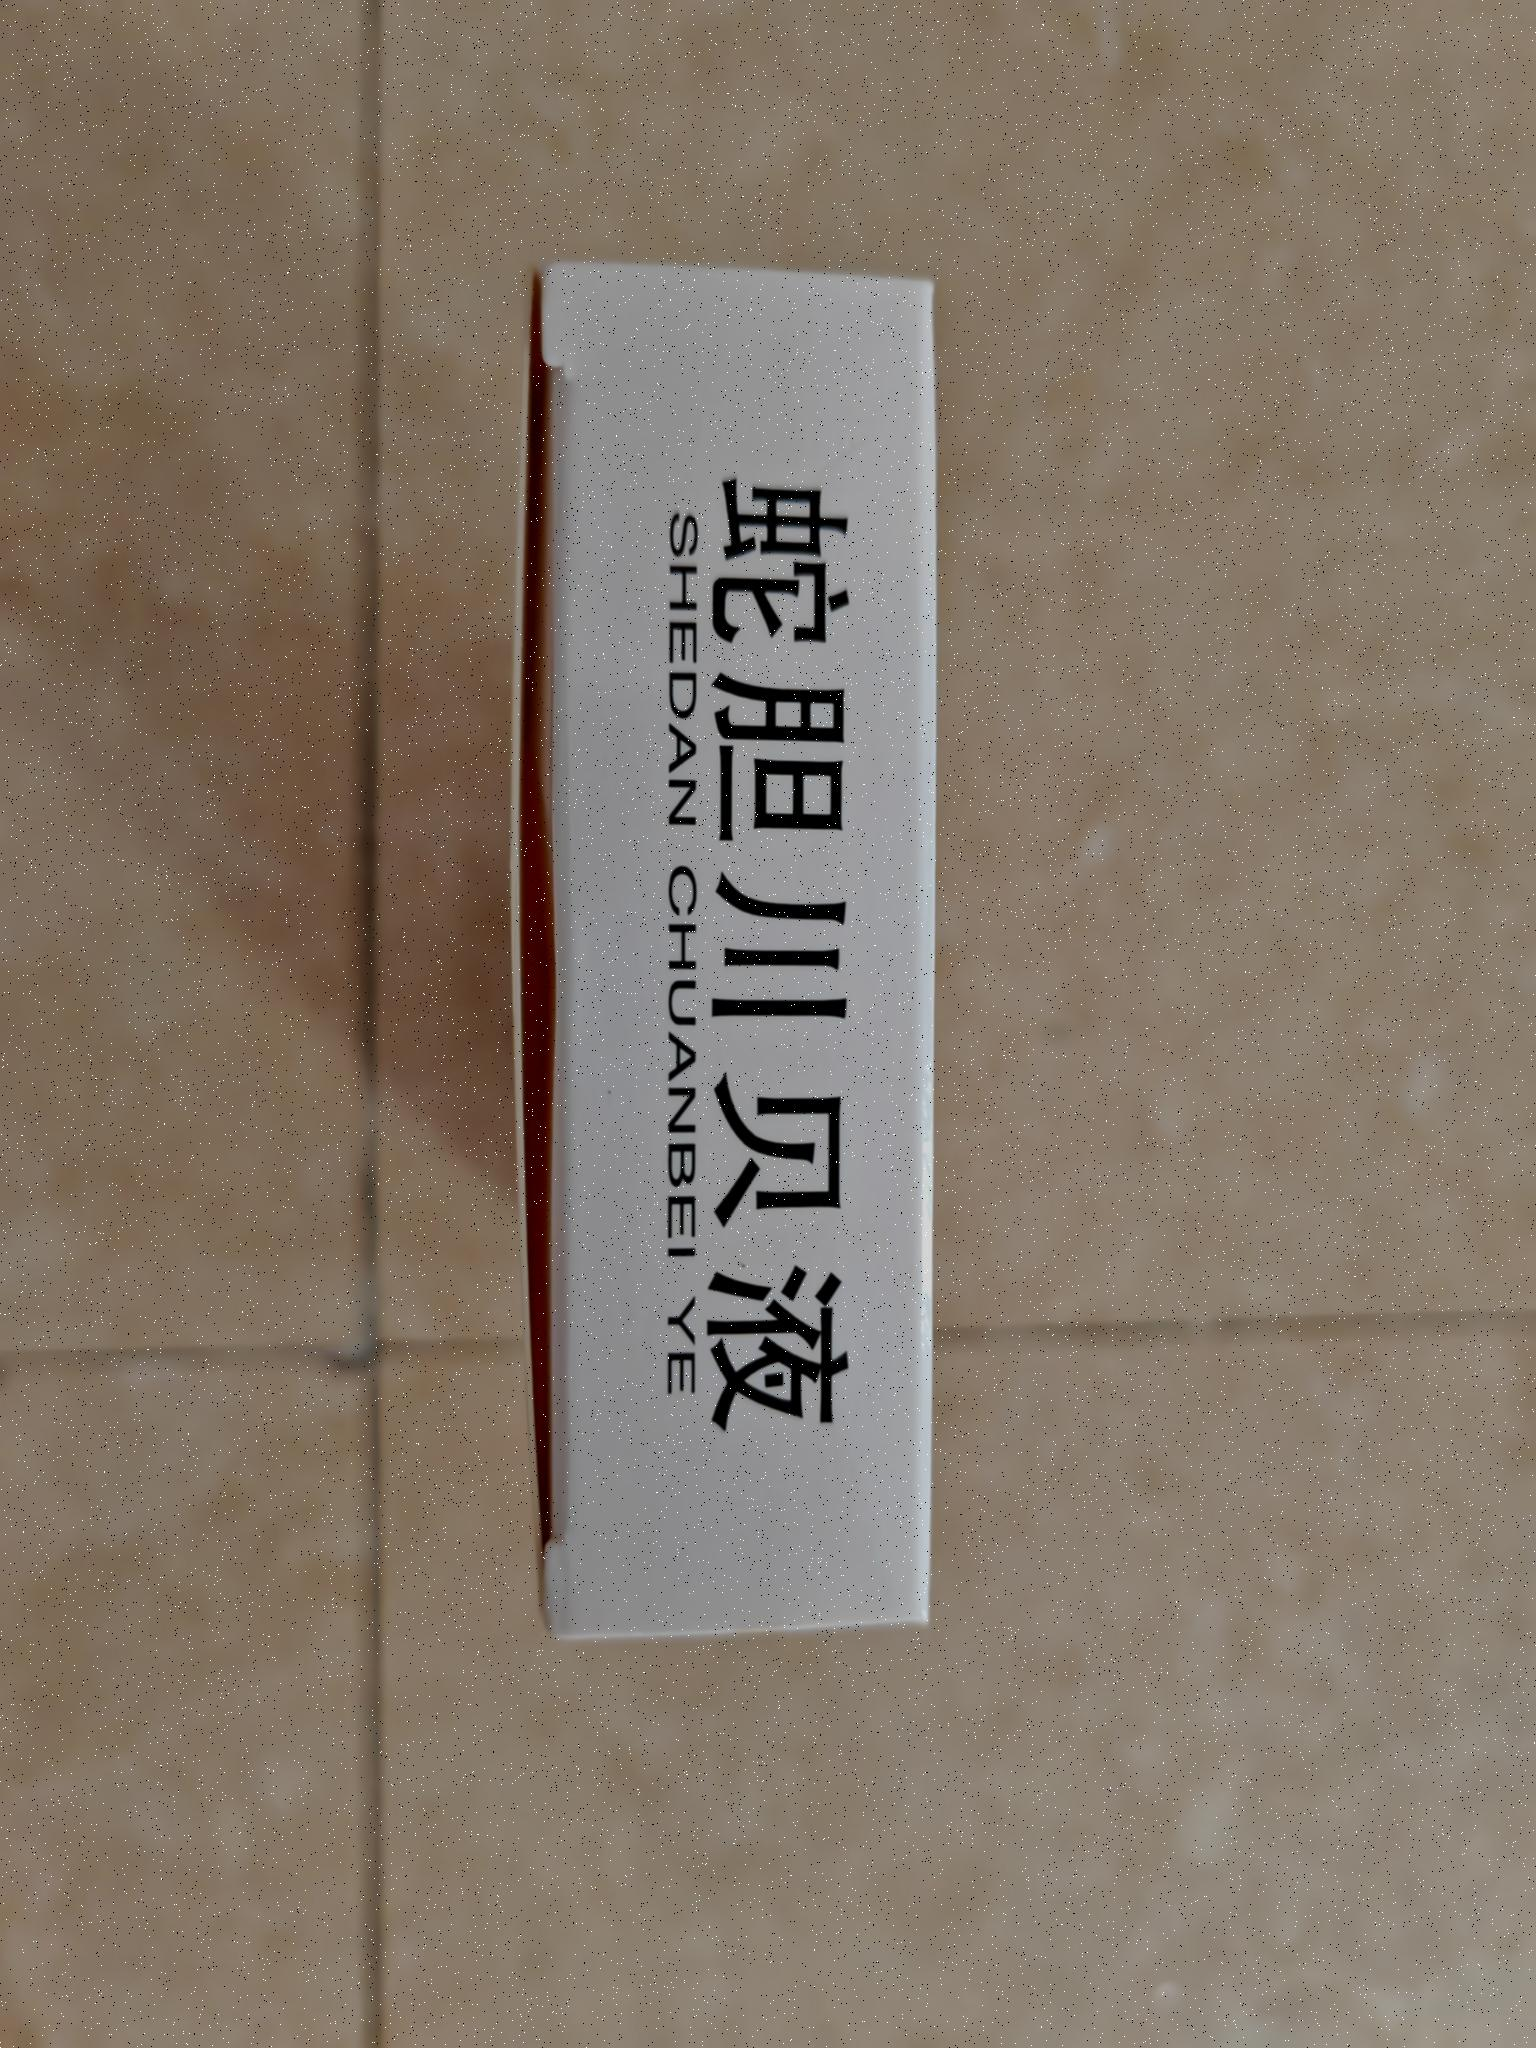Medicine5: (502, 235, 968, 1672)
